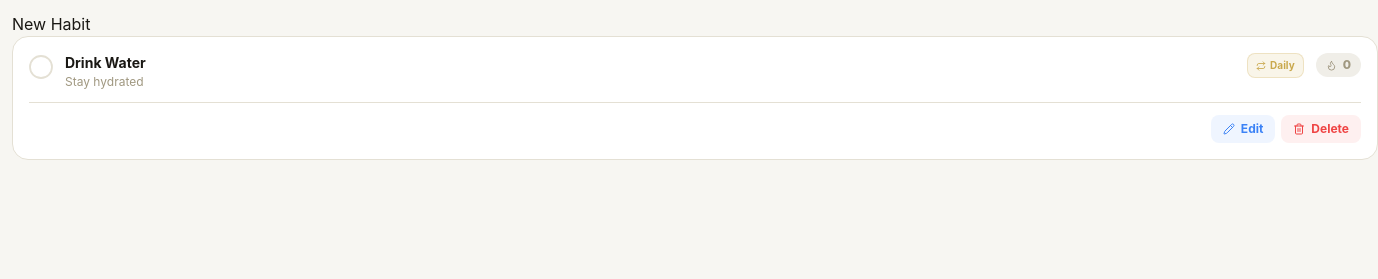
habit form › deletes a habit only after explicit confirmation
Expected: the element with test id "habit-card-drink-water" is shown, [12, 36, 1377, 160]
// Click delete — confirmation should appear
Step 1. Click the button with test id "habit-delete-drink-water" → (1321, 129), box [1281, 115, 1361, 143]
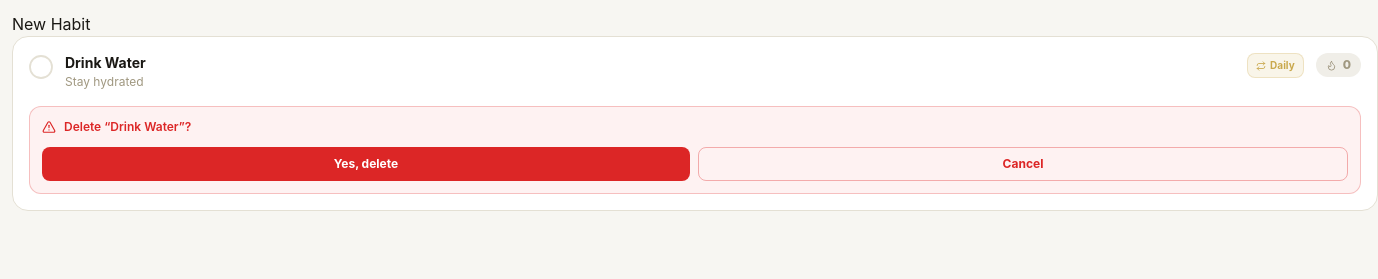
Now the button with test id "confirm-delete-button" is shown
// Confirm deletion
Step 2. Click the button with test id "confirm-delete-button" → (366, 164), box [42, 147, 690, 181]
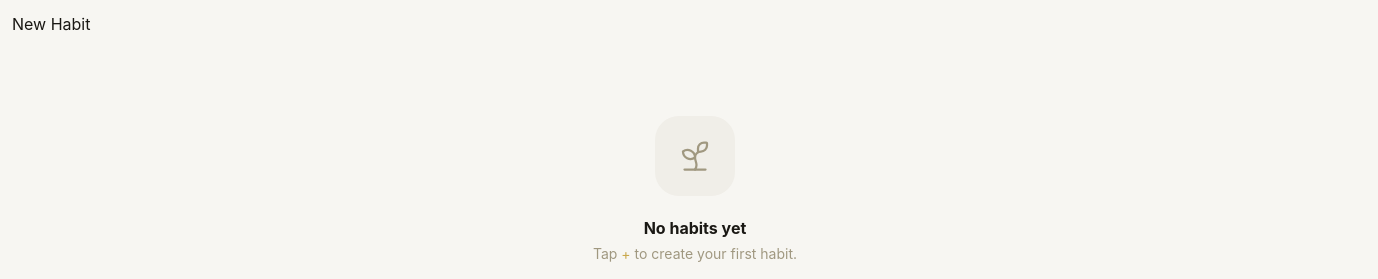
Now the element with test id "habit-card-drink-water" is gone
Now the element with test id "empty-state" is shown, box [593, 116, 797, 262]
